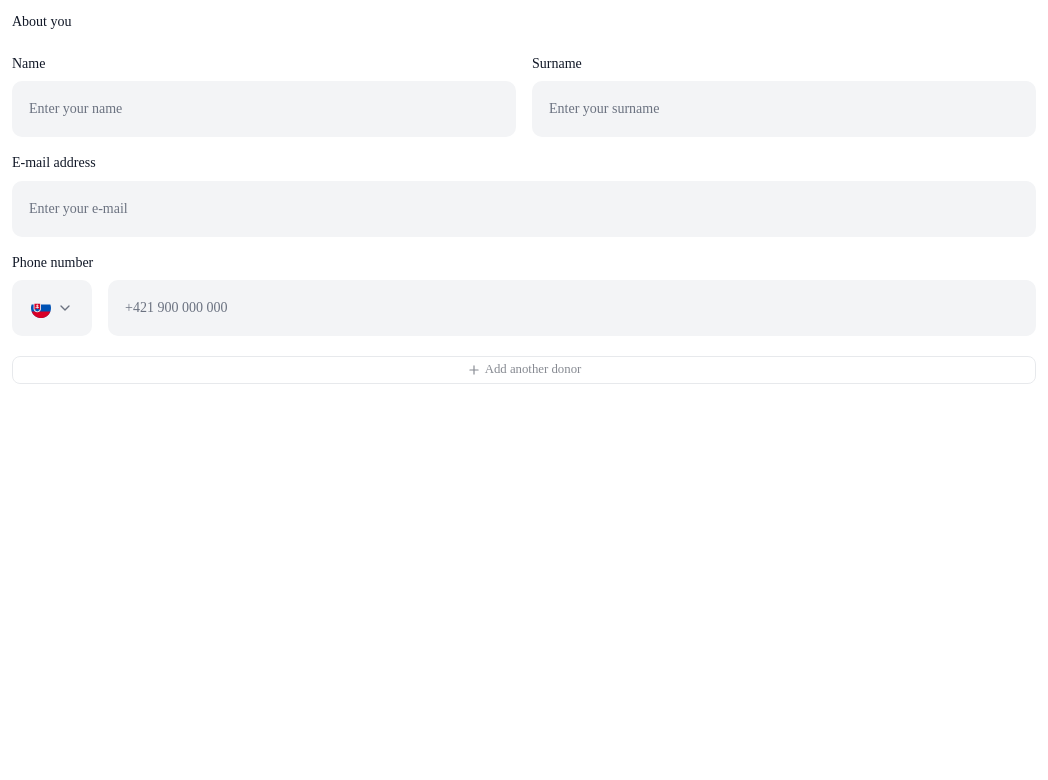
Test: PersonalDetailsStep › expands a collapsed donor back into an editable form via the Edit button
Type "Novak" into the field labelled "Surname" at (784, 109), box [532,81,1036,137]
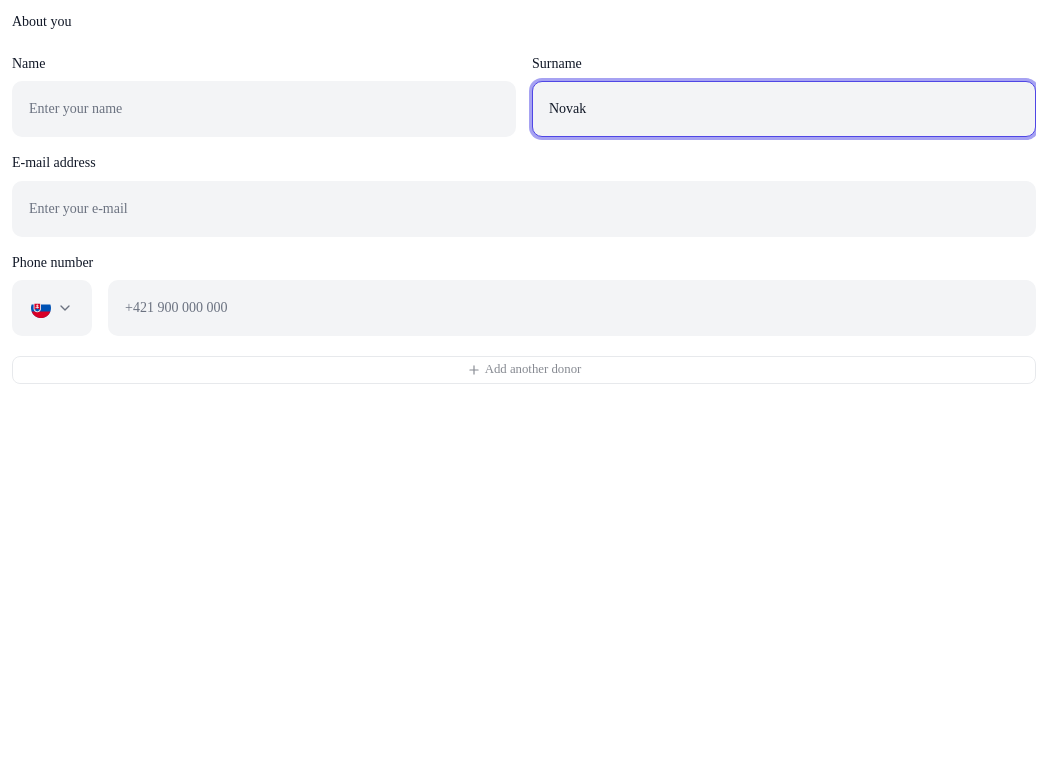
Type "novak@example.com" into the field labelled "E-mail address" at (524, 208), box [12,180,1036,236]
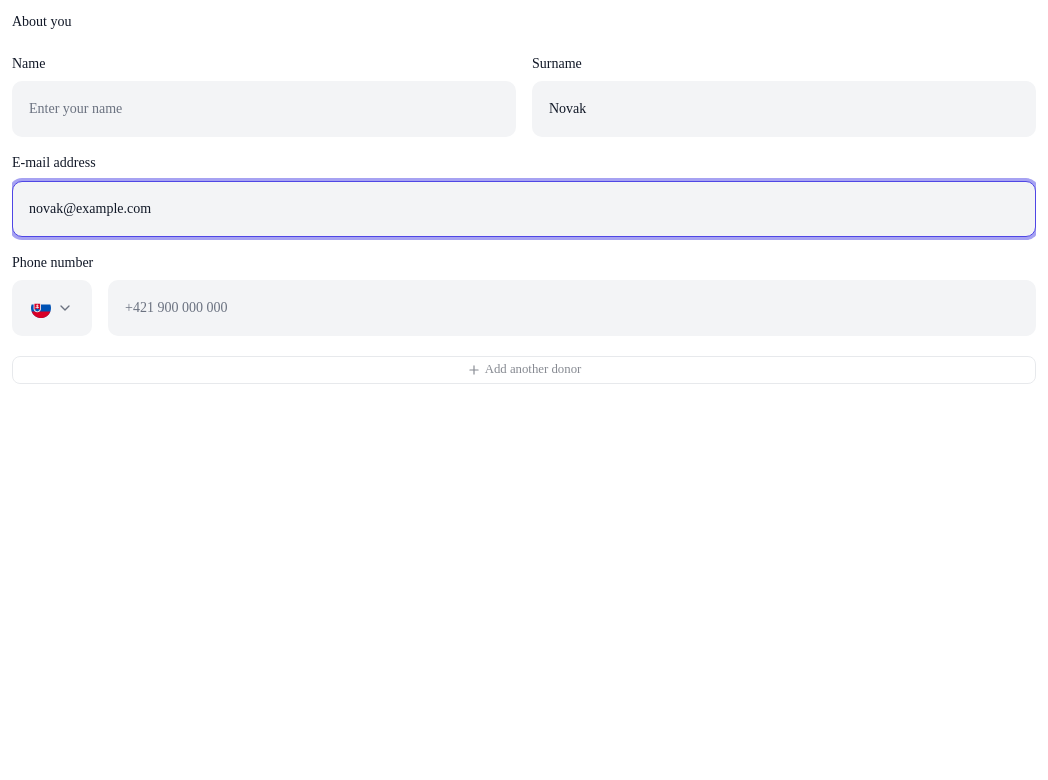
Type "900 000 000" into the field labelled "Phone number" at (572, 308), box [108,280,1036,336]
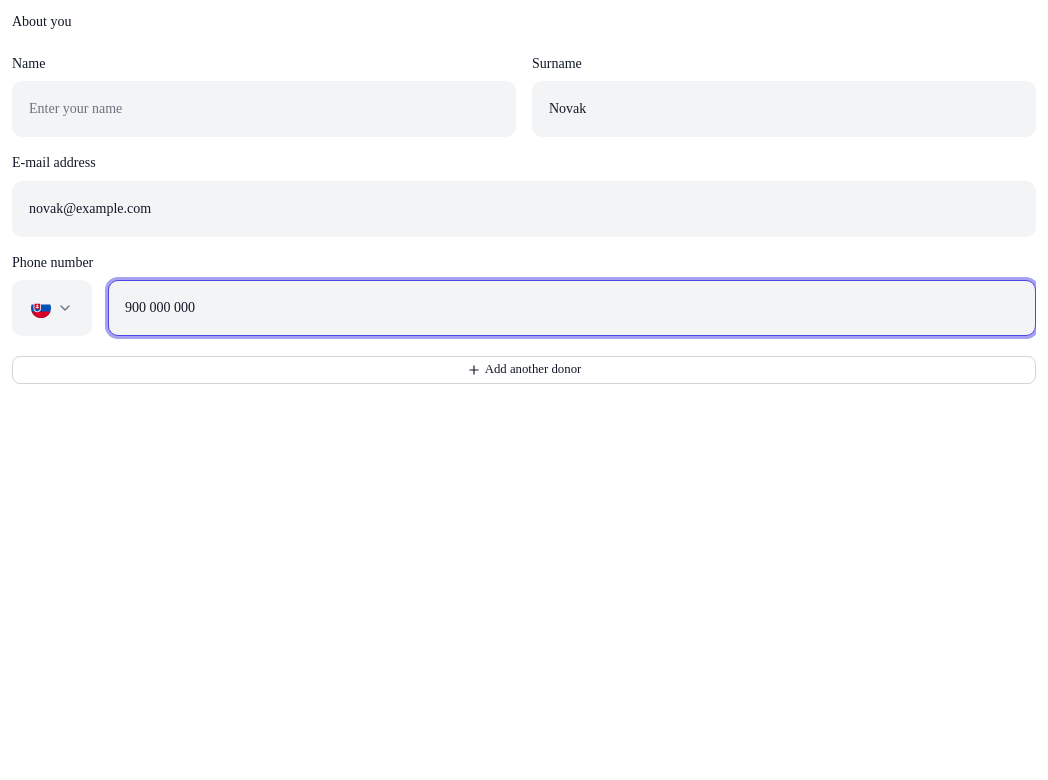
Click the button "Add another donor" at (524, 370), box [12,356,1036,384]
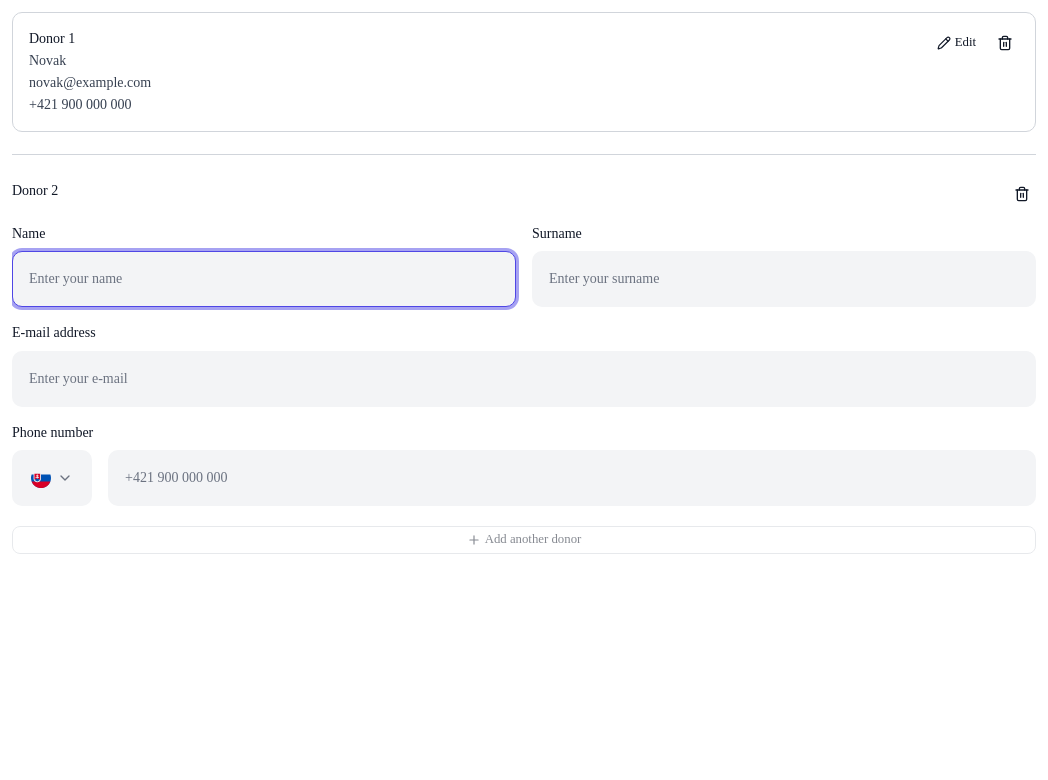
Click the button "Edit" at (956, 43), box [926,29,987,57]
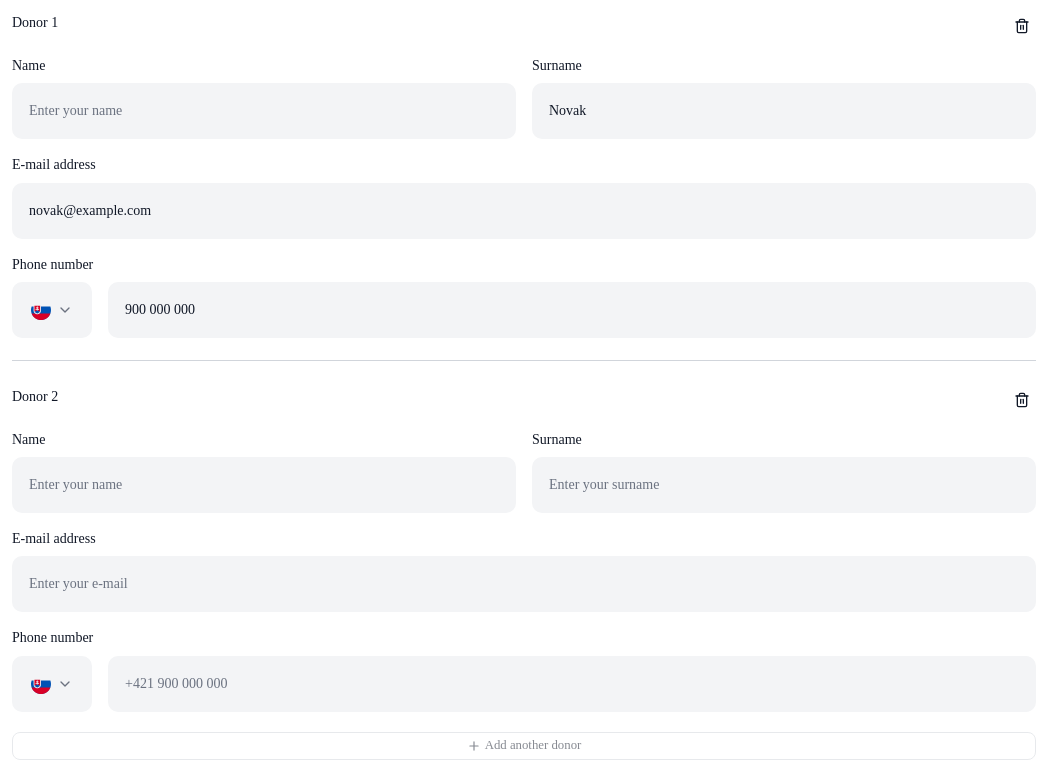
Expected: the number of fields labelled "Surname" is 2, [532,83,1036,139]; [532,457,1036,513]
